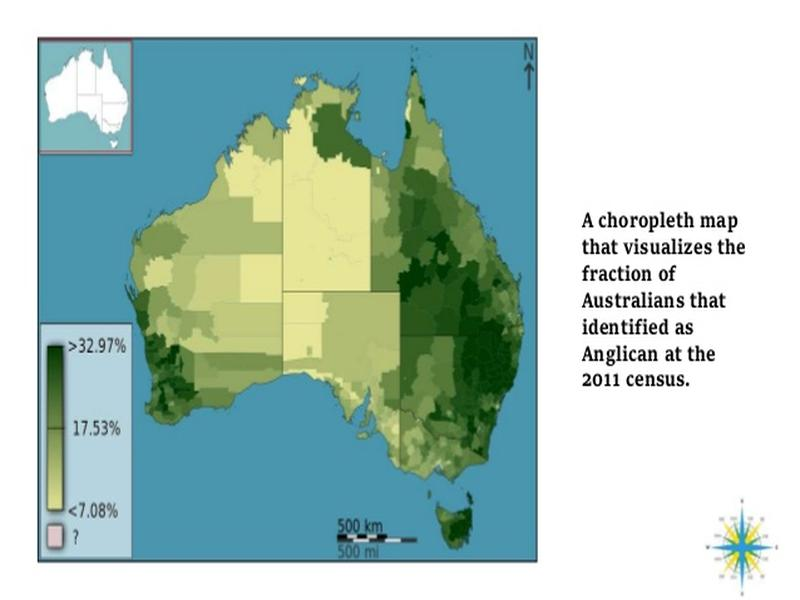legend: (38, 322, 133, 559)
